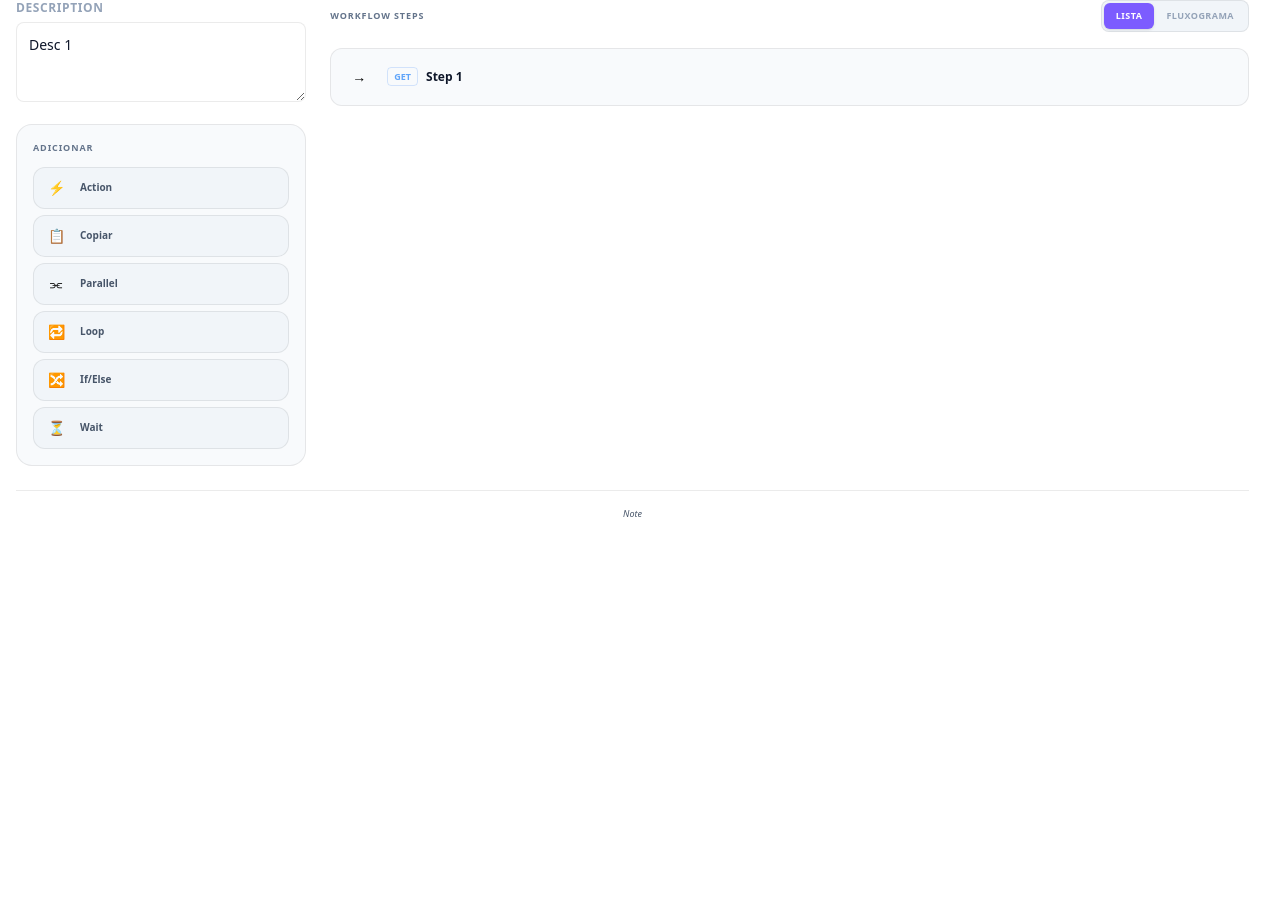
Scenario: WorkflowEditorView › should open copy modal when clicking Copiar
The image size is (1280, 900).
Click the text "Copiar" at (96, 236), box x1=80 y1=228 x2=112 y2=243
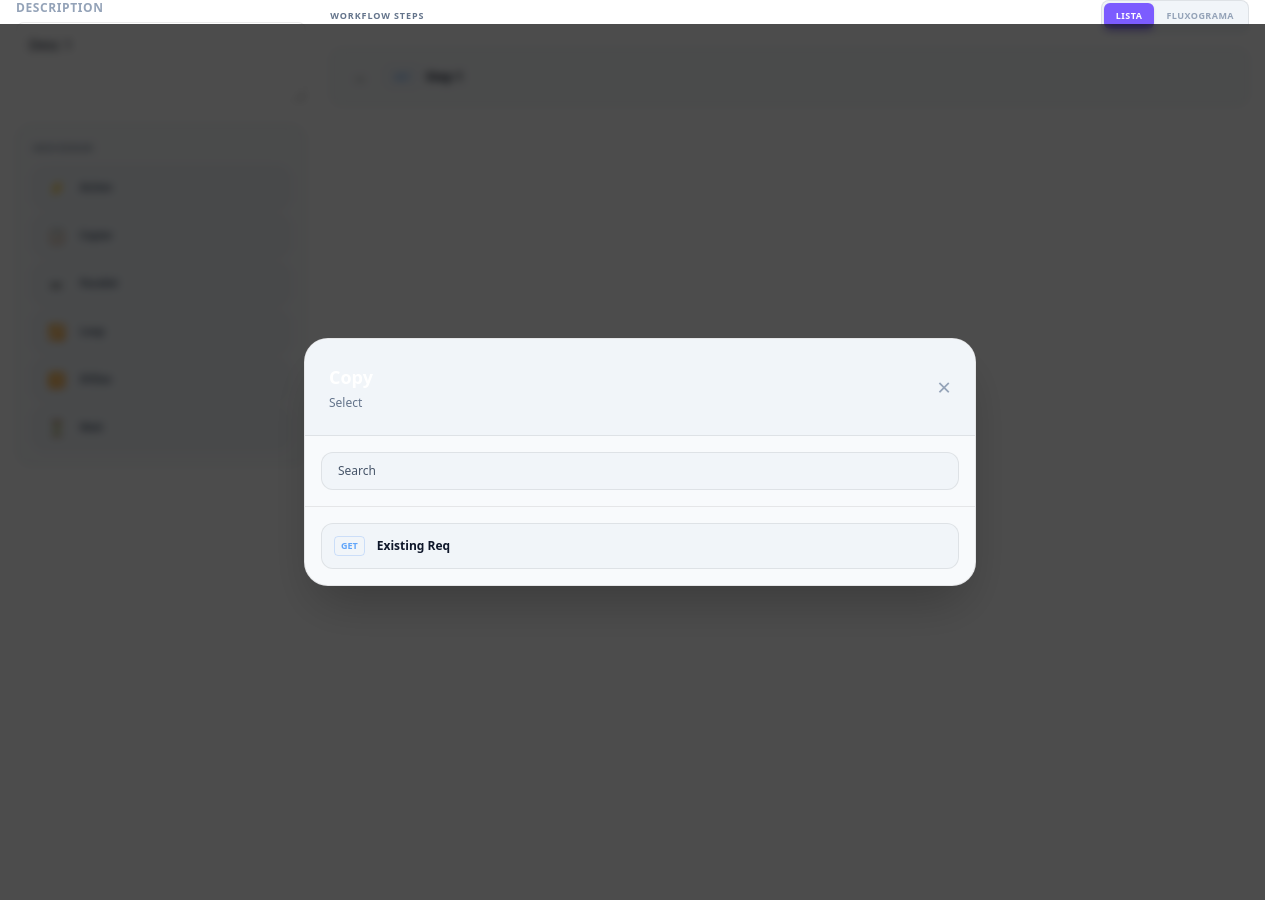
Now the text "Existing Req" is shown, box x1=377 y1=538 x2=450 y2=554
